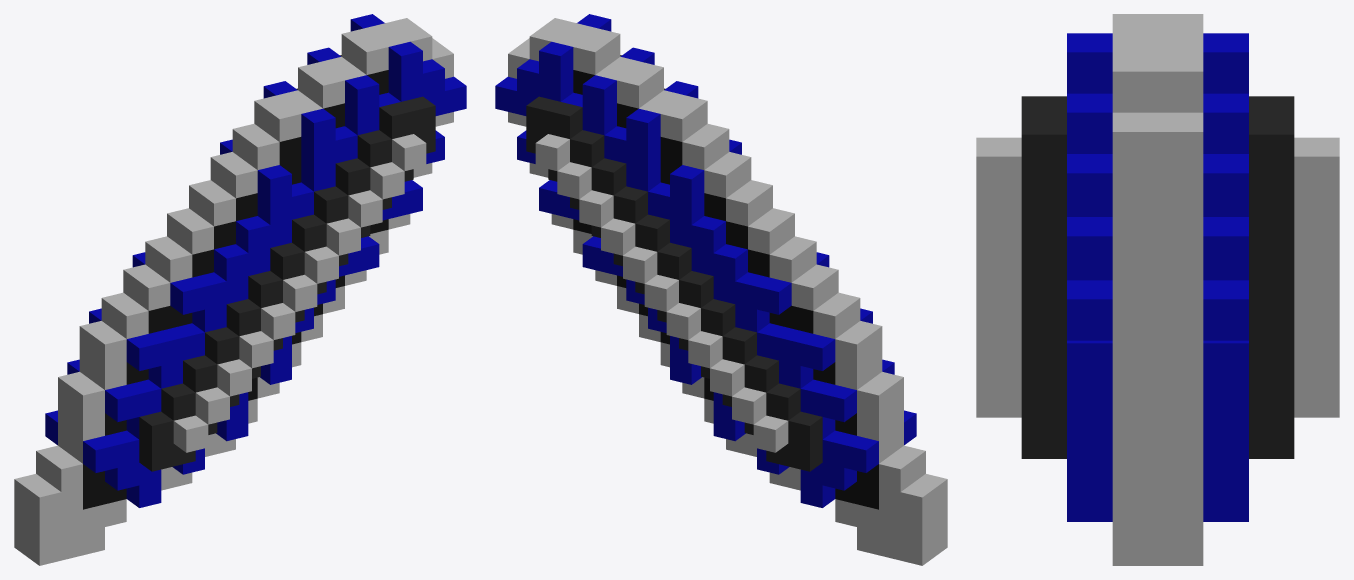
File: slowTowerArm2Pivot.fbx
The picture shows the model from 3 angles, left to right: view 1: azimuth 30°, elevation 25°; view 2: azimuth 150°, elevation 25°; view 3: azimuth 270°, elevation 25°; orthographic projection. The views are drawn at different scales.
Parts seen in each view (by area): view 1: slowTower_7:slowTower_1; view 2: slowTower_7:slowTower_1; view 3: slowTower_7:slowTower_1.
Boxes of the visible parts, bbox=[...] form: slowTower_7:slowTower_1: bbox=[14, 14, 466, 565]; slowTower_7:slowTower_1: bbox=[495, 14, 947, 565]; slowTower_7:slowTower_1: bbox=[976, 14, 1339, 565].
Bounding box in the file's own units: 19 × 19 × 8.
Materials: 1 (1 with a texture image).
